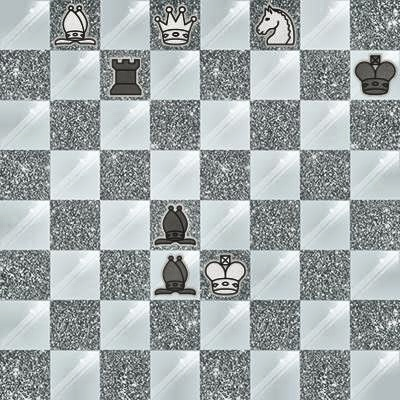black-bishop: (150, 200, 200, 250), (150, 250, 200, 300)
black-king: (350, 50, 400, 100)
black-rook: (100, 50, 150, 100)
white-bishop: (50, 0, 100, 50)
white-king: (200, 250, 250, 300)
white-knight: (250, 0, 300, 50)
white-queen: (150, 0, 200, 50)
